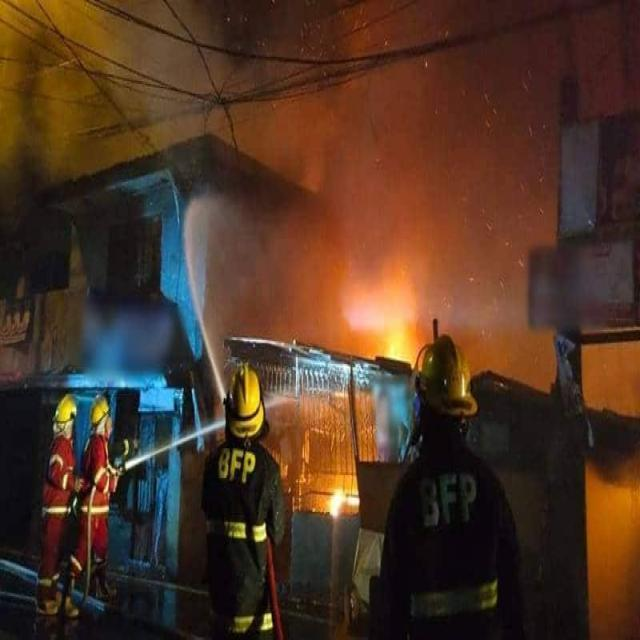Fire: (330, 238, 410, 352), (322, 478, 352, 518)
Smoke: (231, 7, 529, 326)
